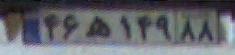character: (82, 12, 115, 43), (153, 12, 174, 46), (174, 13, 196, 45), (114, 13, 135, 45), (61, 11, 82, 42), (42, 12, 61, 43), (134, 13, 153, 44), (197, 14, 216, 45)
